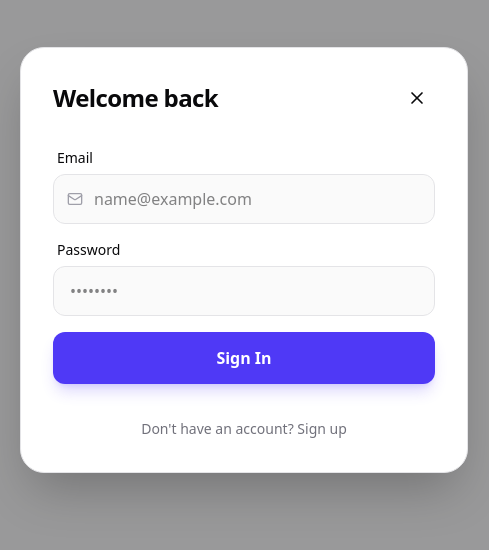
Test: AuthModal › handles signup submission successfully
The image size is (489, 550).
Click the button "Don't have an account? Sign up".
click(244, 429)  # box x1=141 y1=419 x2=347 y2=439
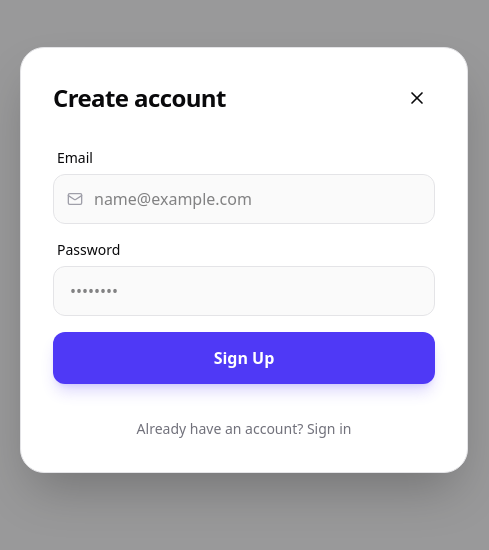
Type "new@test.com" into the field with placeholder "name@example.com".
click(244, 199); type("new@test.com")  # box x1=53 y1=174 x2=435 y2=224
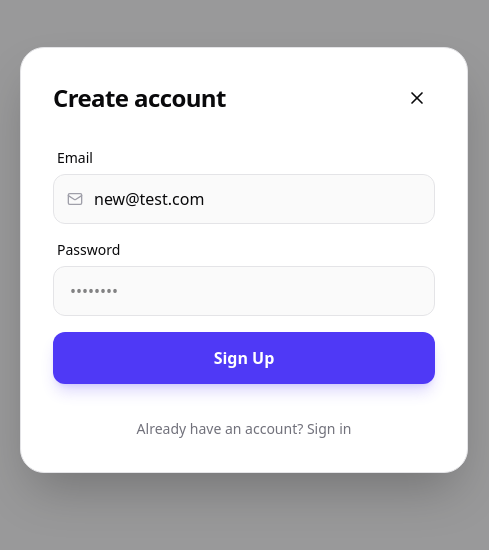
Type "password123" into the password field with placeholder "••••••••".
click(244, 291); type("password123")  # box x1=53 y1=266 x2=435 y2=316
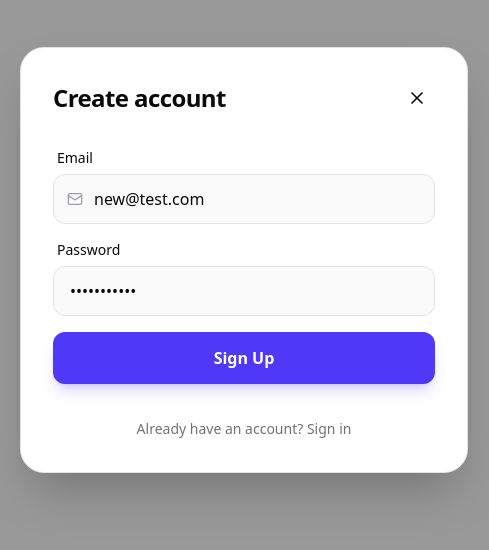
Click the button "Sign Up".
click(244, 358)  # box x1=53 y1=332 x2=435 y2=384
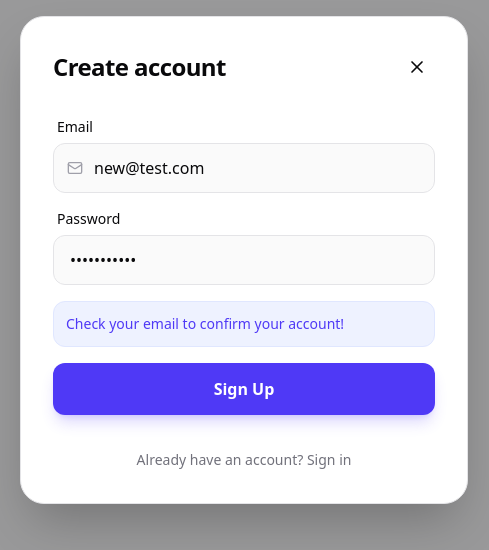
Check: the text "Check your email to confirm your account!" is shown, box x1=53 y1=301 x2=435 y2=347
